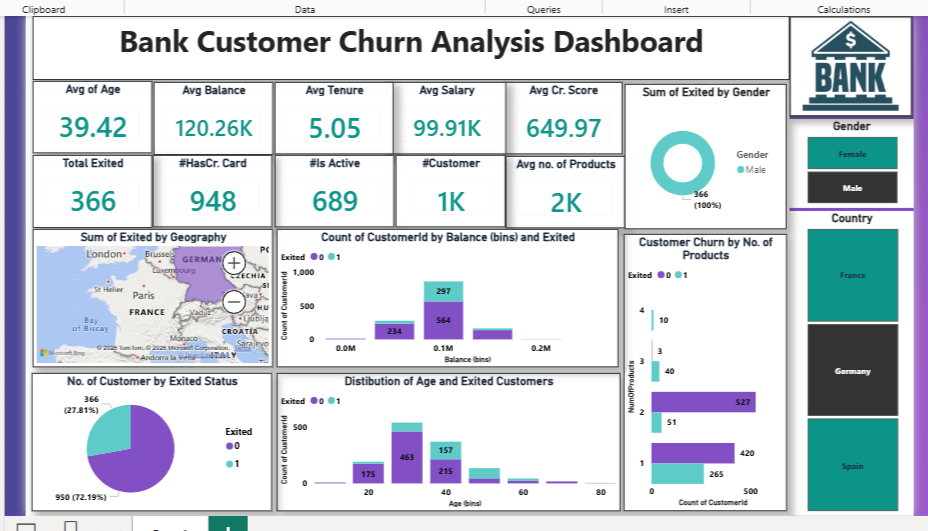

This screenshot's page, from the dashboard's own definition file:
{"tool":"powerbi","page":{"name":"Page 1","canvas":[1280,720],"ordinal":0},"visuals":[{"type":"textbox","box":[10.2,0,1090.2,92],"z":0},{"type":"shape","box":[1100.5,0,180,720],"z":1000},{"type":"cardVisual","title":"Avg of Age","fields":{"Data":["Avg(Churn_Modelling.Age)"]},"box":[10.2,93.7,172,104],"z":2000},{"type":"cardVisual","title":"Avg Balance","fields":{"Data":["Avg(Churn_Modelling.Balance)"]},"box":[184.4,95.1,172,105],"z":3000},{"type":"cardVisual","title":"Avg Cr. Score","fields":{"Data":["Avg(Churn_Modelling.CreditScore)"]},"box":[688.3,95,171.4,104],"z":4000},{"type":"cardVisual","title":"Avg Salary","fields":{"Data":["Avg(Churn_Modelling.EstimatedSalary)"]},"box":[519.5,95.1,172,104],"z":5000},{"type":"cardVisual","title":"Avg Tenure","fields":{"Data":["Avg(Churn_Modelling.Tenure)"]},"box":[358.5,95.1,171,104],"z":6000},{"type":"cardVisual","title":"#Is Active","fields":{"Data":["Sum(Churn_Modelling.IsActiveMember)"]},"box":[358.5,200.5,172,104],"z":7000},{"type":"cardVisual","title":"#HasCr. Card","fields":{"Data":["Sum(Churn_Modelling.HasCrCard)"]},"box":[182.9,200.5,172,104],"z":8000},{"type":"cardVisual","title":"Total Exited","fields":{"Data":["Sum(Churn_Modelling.Exited)"]},"box":[10.2,200.5,172,105.4],"z":9000},{"type":"cardVisual","title":"Avg no. of Products","fields":{"Data":["Sum(Churn_Modelling.NumOfProducts)"]},"box":[690.7,202,172,104],"z":10000},{"type":"cardVisual","title":"#Customer","fields":{"Data":["CountNonNull(Churn_Modelling.CustomerId)"]},"box":[532.8,200.2,158.4,104],"z":11000},{"type":"slicer","title":"Gender","fields":{"Values":["Churn_Modelling.Gender"]},"box":[1100.2,148.3,179,128.2],"z":12000},{"type":"slicer","title":"Country","fields":{"Values":["Churn_Modelling.Geography"]},"box":[1100.5,281,180,439],"z":13000},{"type":"donutChart","fields":{"Y":["Sum(Churn_Modelling.Exited)"],"Category":["Churn_Modelling.Gender"]},"box":[862.6,97.9,233.3,208.8],"z":14000},{"type":"filledMap","fields":{"Category":["Churn_Modelling.Geography"]},"box":[10.2,307.3,346,199],"z":15000},{"type":"columnChart","title":"Distibution of Age and Exited Customers","fields":{"Category":["Churn_Modelling.Age (bins)"],"Y":["CountNonNull(Churn_Modelling.CustomerId)"],"Series":["Churn_Modelling.Exited"]},"box":[361.5,513.7,494.6,199],"z":16000},{"type":"clusteredBarChart","title":"Customer Churn by No. of Products","fields":{"Category":["Churn_Modelling.NumOfProducts"],"Y":["CountNonNull(Churn_Modelling.CustomerId)"],"Series":["Churn_Modelling.Exited"]},"box":[861.1,313.9,234.7,398.9],"z":17000},{"type":"pieChart","title":"No. of Customer by Exited Status","fields":{"Category":["Churn_Modelling.Exited"],"Y":["CountNonNull(Churn_Modelling.CustomerId)"]},"box":[8.8,513.7,346,199],"z":18000},{"type":"columnChart","fields":{"Category":["Churn_Modelling.Balance (bins)"],"Y":["CountNonNull(Churn_Modelling.CustomerId)"],"Series":["Churn_Modelling.Exited"]},"box":[361.5,307.3,492,199],"z":19000},{"type":"image","box":[1100.5,0,175.6,145],"z":20000}]}

Visuals, with their boxes in screenshot pixels (x1, y1, x2, y2):
textbox: region(34, 14, 785, 78)
shape: region(786, 14, 910, 511)
"Avg of Age" cardVisual: region(34, 79, 152, 151)
"Avg Balance" cardVisual: region(154, 80, 272, 152)
"Avg Cr. Score" cardVisual: region(501, 80, 619, 152)
"Avg Salary" cardVisual: region(385, 80, 503, 152)
"Avg Tenure" cardVisual: region(274, 80, 392, 152)
"#Is Active" cardVisual: region(274, 153, 392, 224)
"#HasCr. Card" cardVisual: region(153, 153, 271, 224)
"Total Exited" cardVisual: region(34, 153, 152, 225)
"Avg no. of Products" cardVisual: region(503, 154, 622, 226)
"#Customer" cardVisual: region(394, 153, 503, 224)
"Gender" slicer: region(785, 117, 909, 205)
"Country" slicer: region(786, 208, 910, 511)
donutChart - Sum(Churn_Modelling.Exited) x Churn_Modelling.Gender: region(621, 82, 782, 226)
filledMap - Churn_Modelling.Geography: region(34, 226, 272, 364)
"Distibution of Age and Exited Customers" columnChart: region(276, 369, 617, 506)
"Customer Churn by No. of Products" clusteredBarChart: region(620, 231, 782, 506)
"No. of Customer by Exited Status" pieChart: region(33, 369, 271, 506)
columnChart - Churn_Modelling.Balance (bins) x CountNonNull(Churn_Modelling.CustomerId): region(276, 226, 615, 364)
image: region(786, 14, 907, 114)
